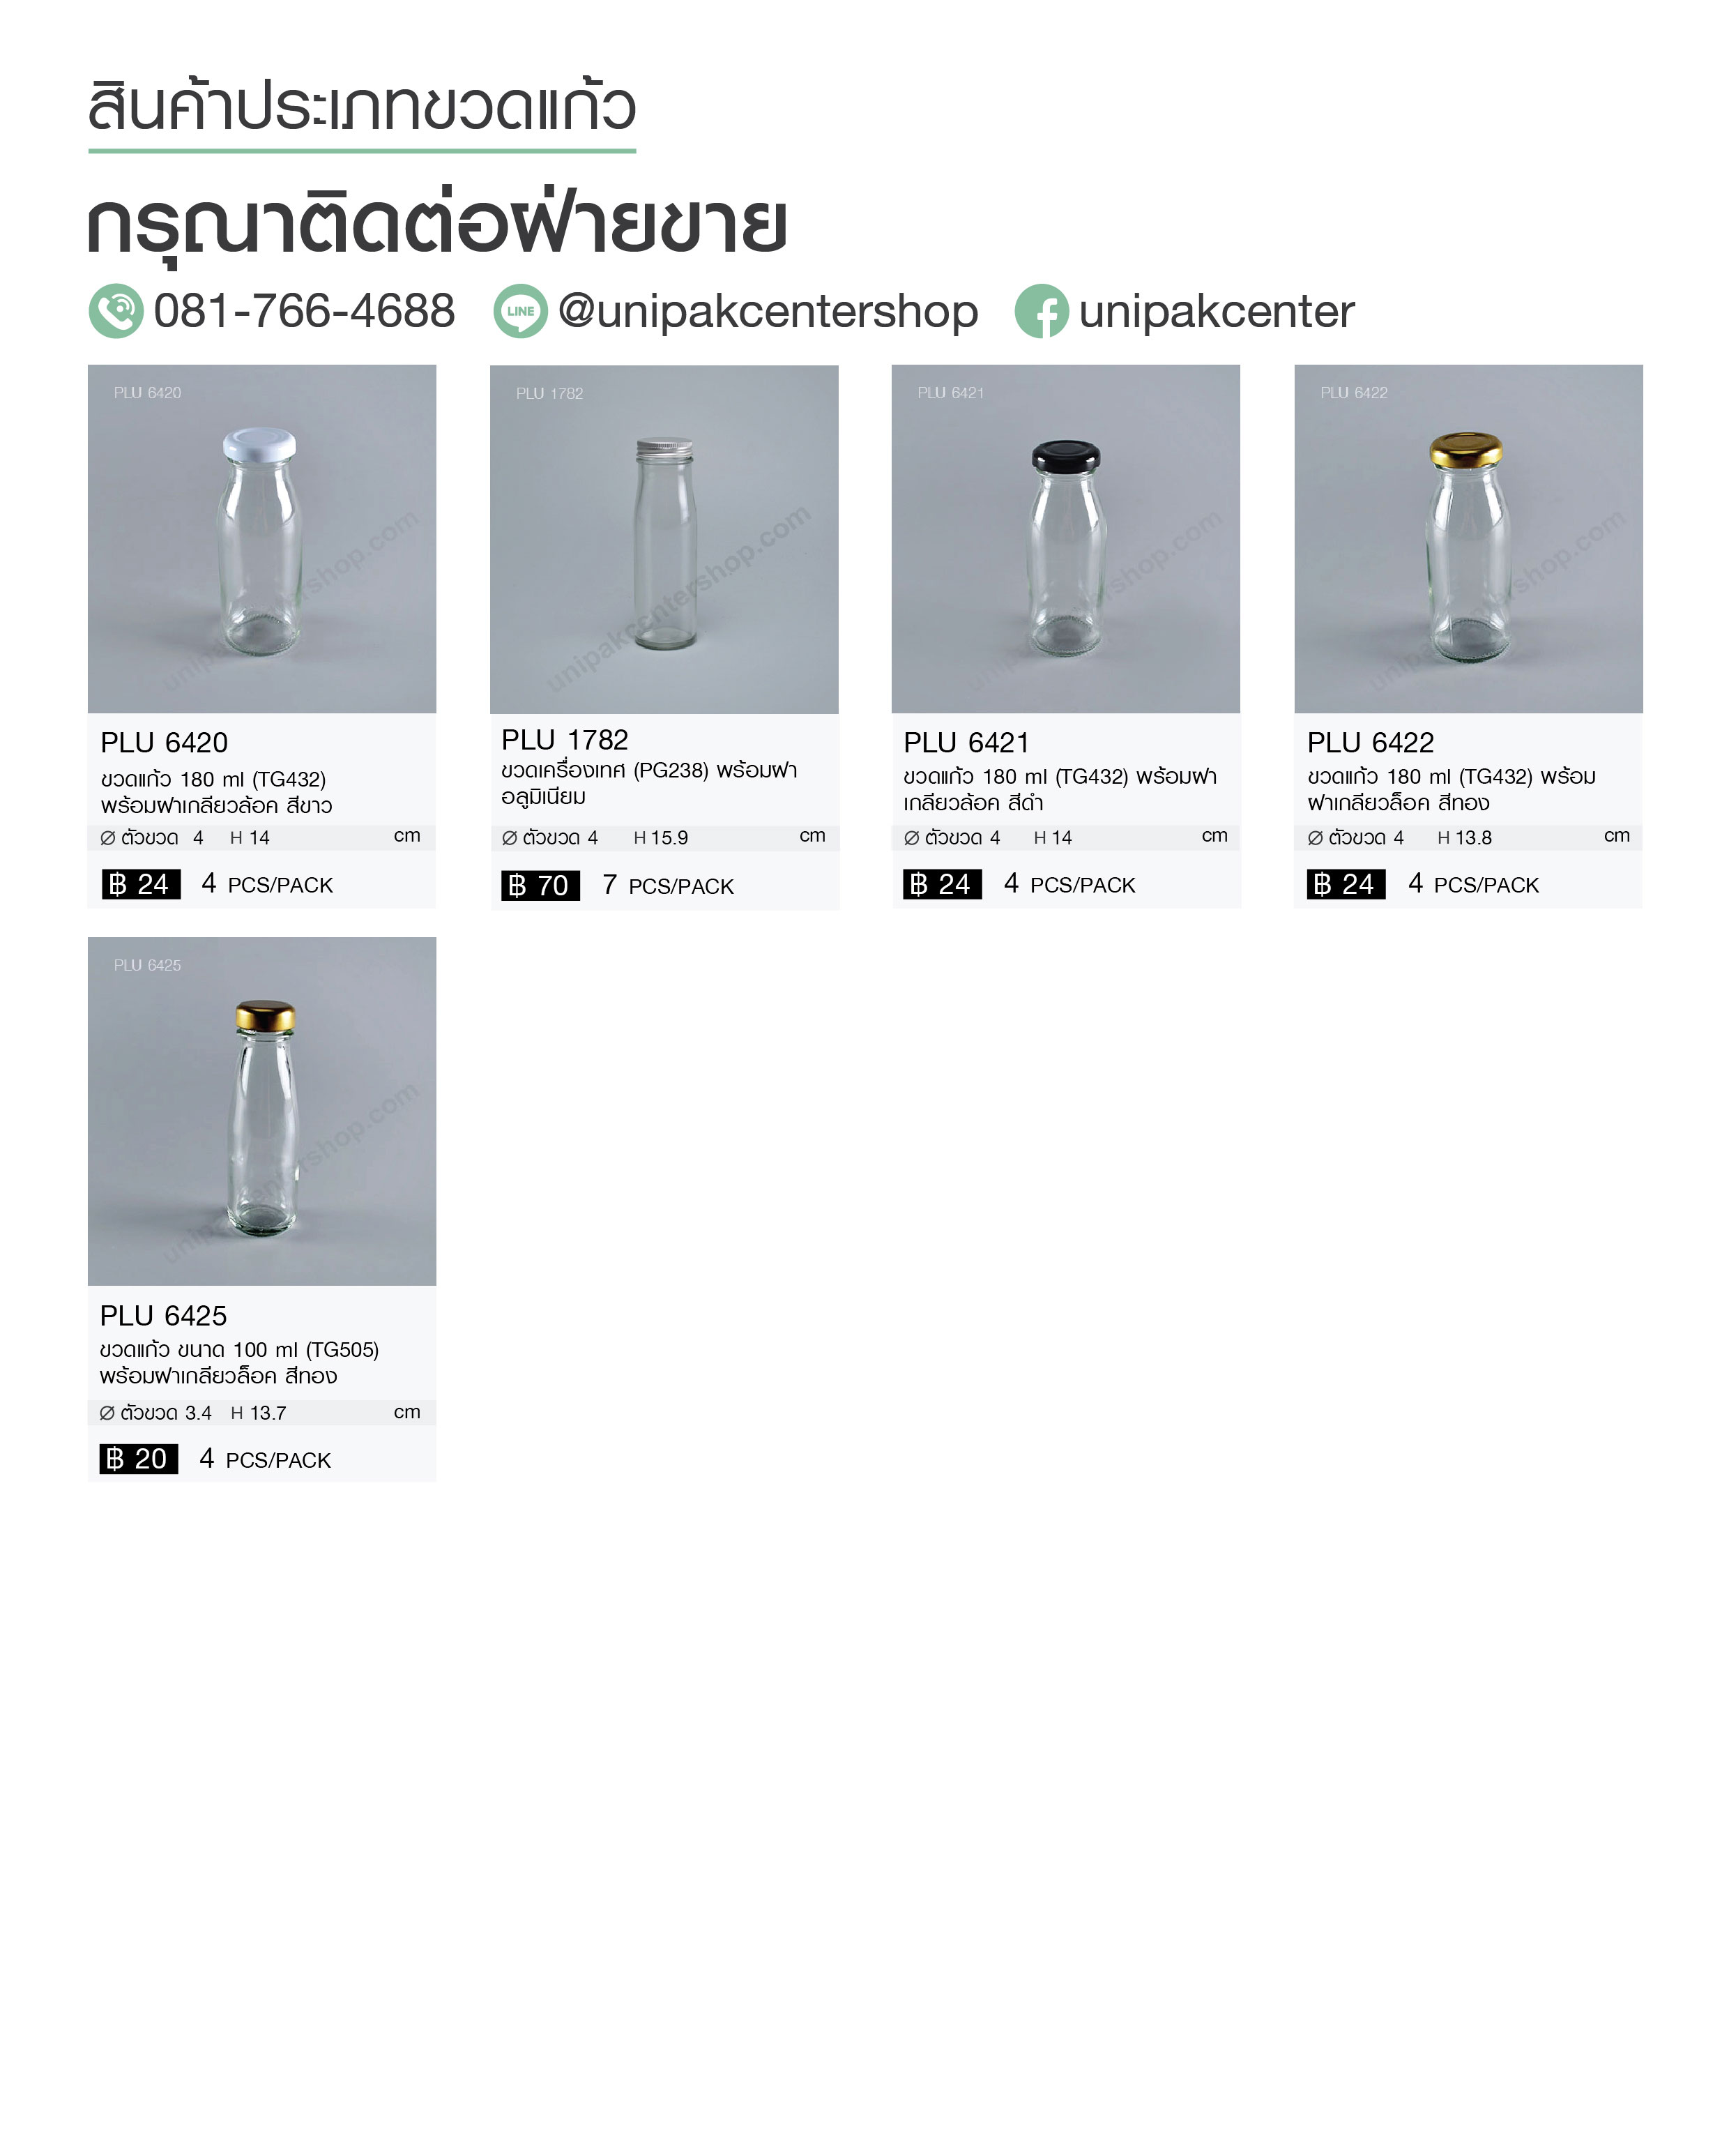glass_bottle: (1418, 422, 1523, 683), (208, 413, 311, 660), (616, 429, 720, 670), (221, 992, 312, 1249), (1027, 432, 1117, 658)
